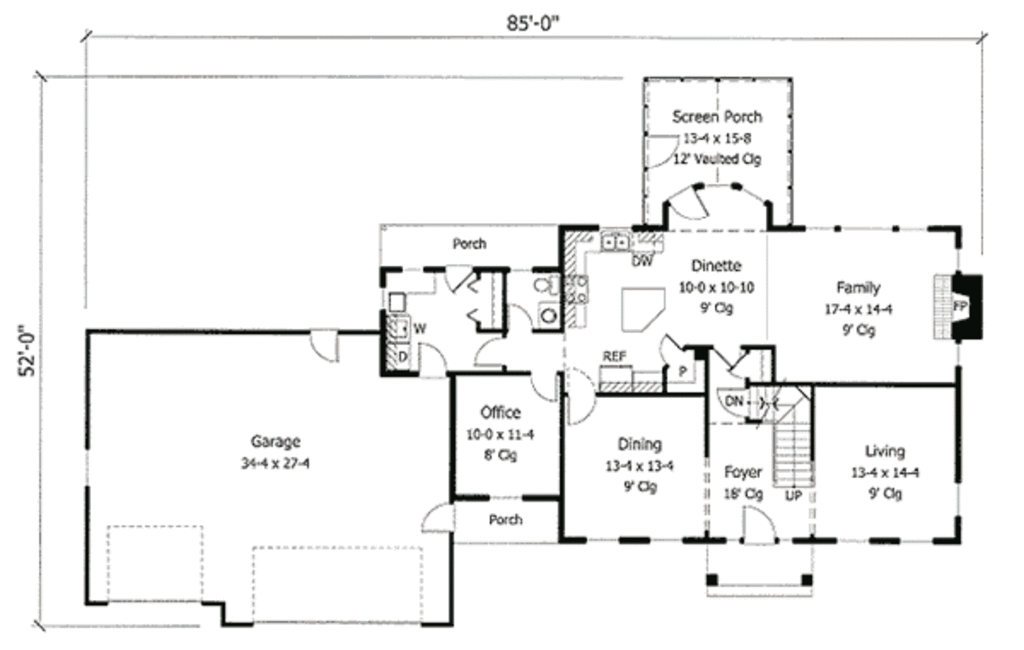door: (735, 501, 778, 548), (667, 183, 709, 222), (307, 328, 341, 368), (713, 387, 752, 421), (643, 131, 679, 166), (415, 341, 446, 377), (528, 370, 559, 404), (653, 334, 685, 366), (562, 393, 595, 424), (420, 500, 451, 532), (443, 262, 472, 296), (470, 337, 505, 364), (503, 304, 532, 333)
large_sink: (531, 274, 560, 300)
small_sink: (540, 301, 560, 332)
stairs: (747, 386, 815, 497)
twin_sink: (597, 231, 633, 255)
windows: (832, 532, 939, 548), (801, 224, 932, 235), (581, 535, 686, 547)
